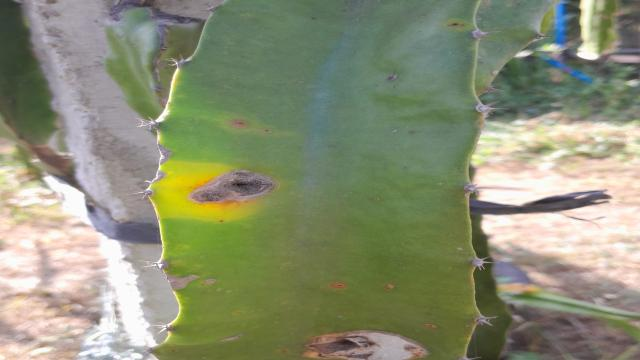stemcanker: (224, 115, 251, 132), (324, 278, 349, 293)
